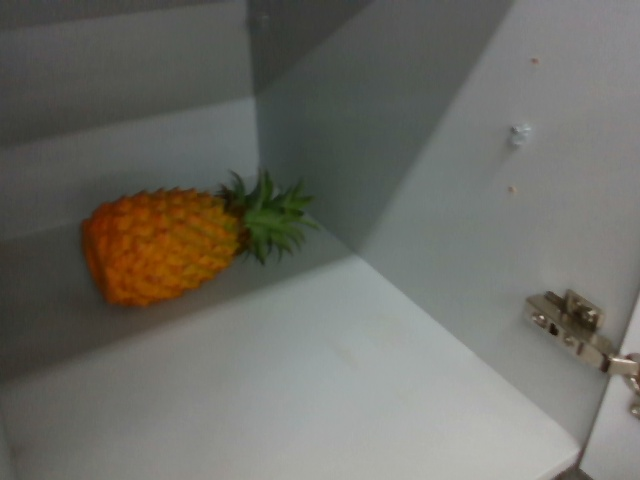pineapple: (80, 172, 314, 299)
